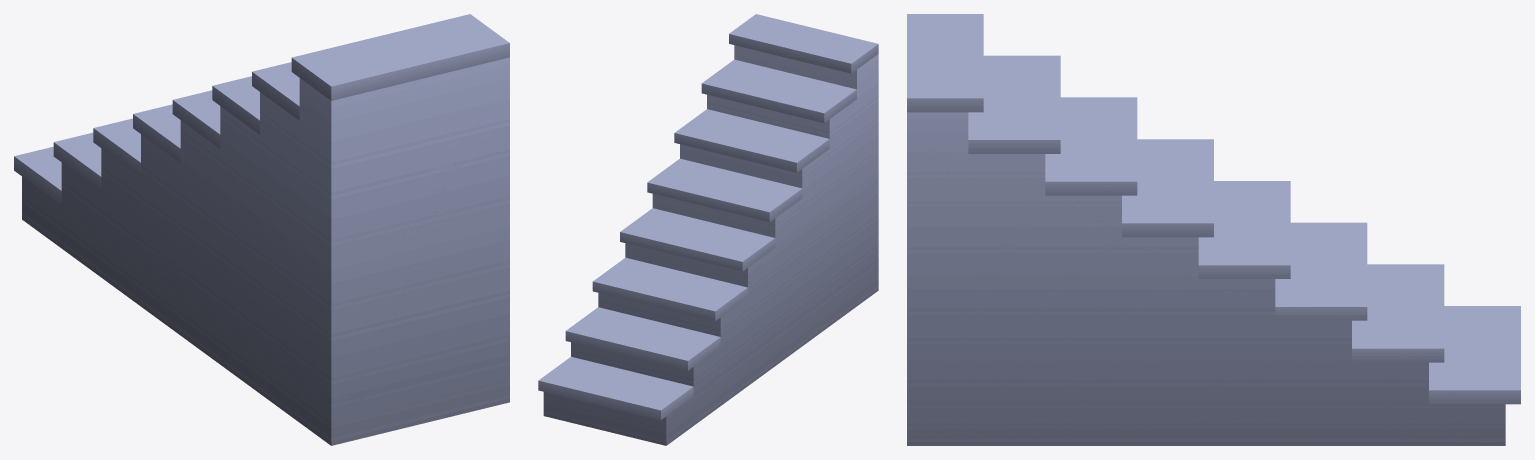
Rendered from stairs-closed.glb.
The picture shows the model from 3 angles, left to right: view 1: azimuth 30°, elevation 25°; view 2: azimuth 150°, elevation 25°; view 3: azimuth 270°, elevation 25°; orthographic projection. The views are drawn at different scales.
Parts seen in each view (by area): view 1: stairs-closed; view 2: stairs-closed; view 3: stairs-closed.
Part boxes in pixels (x1,y1,x2,y2): stairs-closed: (14,14,509,445); stairs-closed: (538,14,878,445); stairs-closed: (907,14,1520,445).
Bounding box in the file's own units: 1.3 × 2.5 × 4.
1 material, 1 textured.
